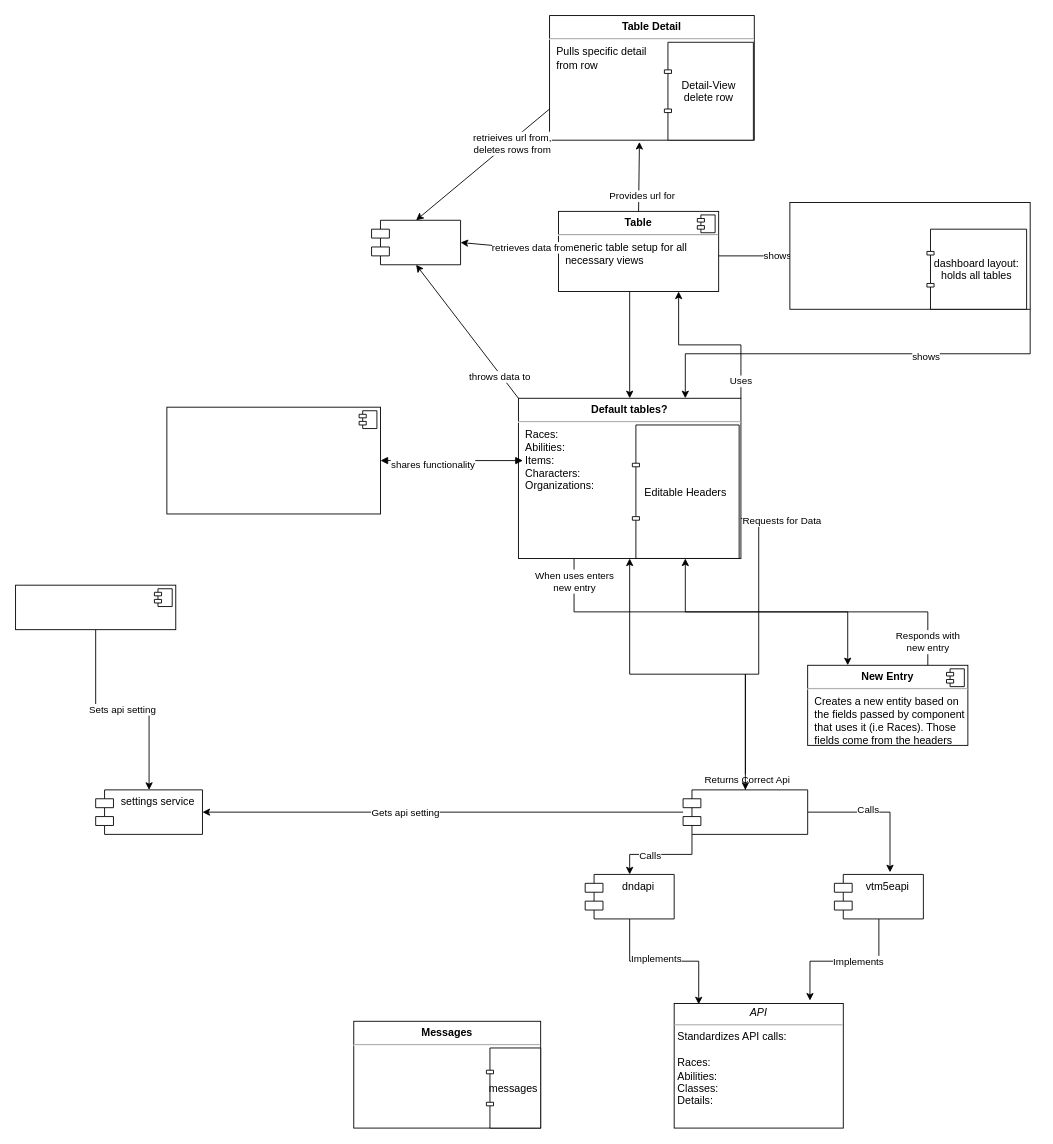
Some shapes in this 1053 by 1144 pixel diagram are drawn without their labels. The centre of each missing label's shape, as x and y in pixels:
api_data: [416,242]
api_selector: [745,811]
Dashboard: [909,255]
default view Preset headers on creation, no data must be manually inputed: [273,460]
Settings View Api Setting:: [95,607]
